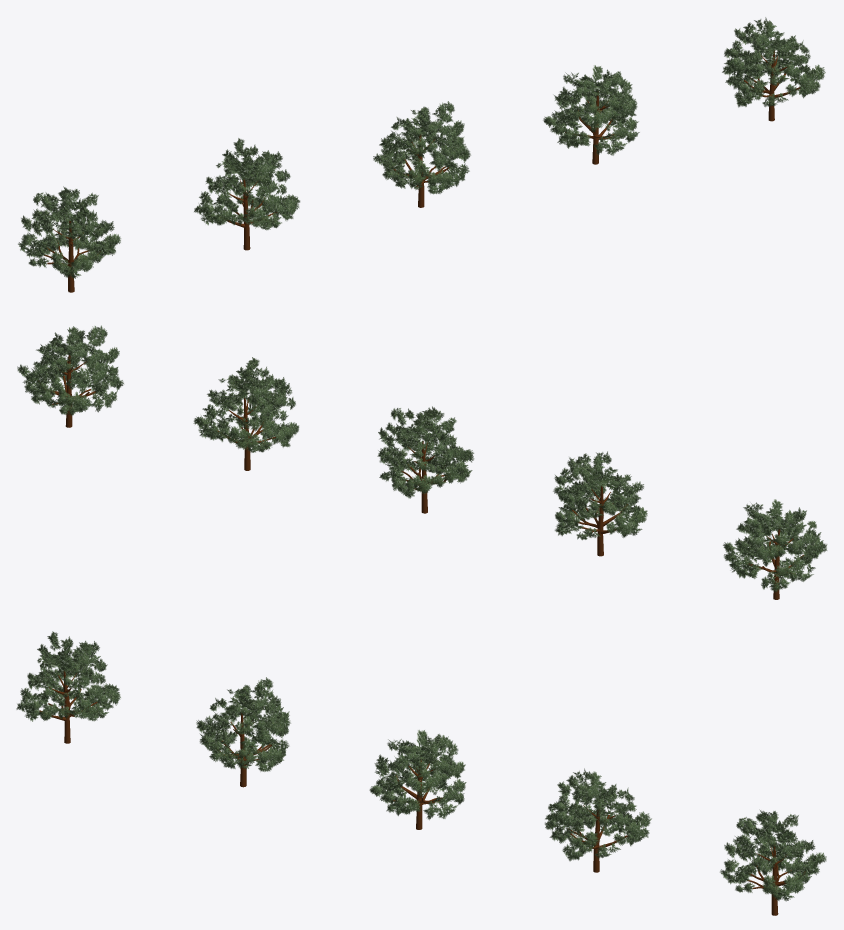
The model's file is treeline.glb.
3 renders of one model, top to bottom at view 1: azimuth 30°, elevation 25°; view 2: azimuth 150°, elevation 25°; view 3: azimuth 330°, elevation 25°, orthographic.
Parts seen in each view (by area): view 1: tree1; view 2: tree1; view 3: tree1.
Boxes of the visible parts, <box> form: tree1: <box>18,17,825,292</box>; tree1: <box>17,325,827,599</box>; tree1: <box>16,631,826,915</box>.
Size of the model in its own units: 112 by 13.97 by 14.41.
Materials: 2 (1 with a texture image).
